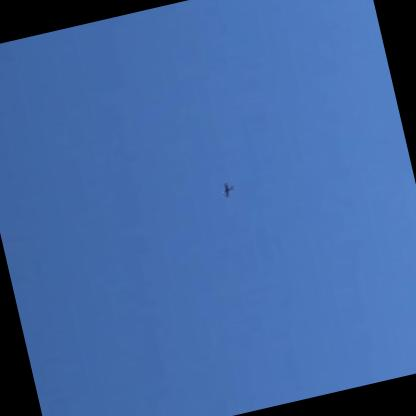plane: (218, 178, 236, 199)
